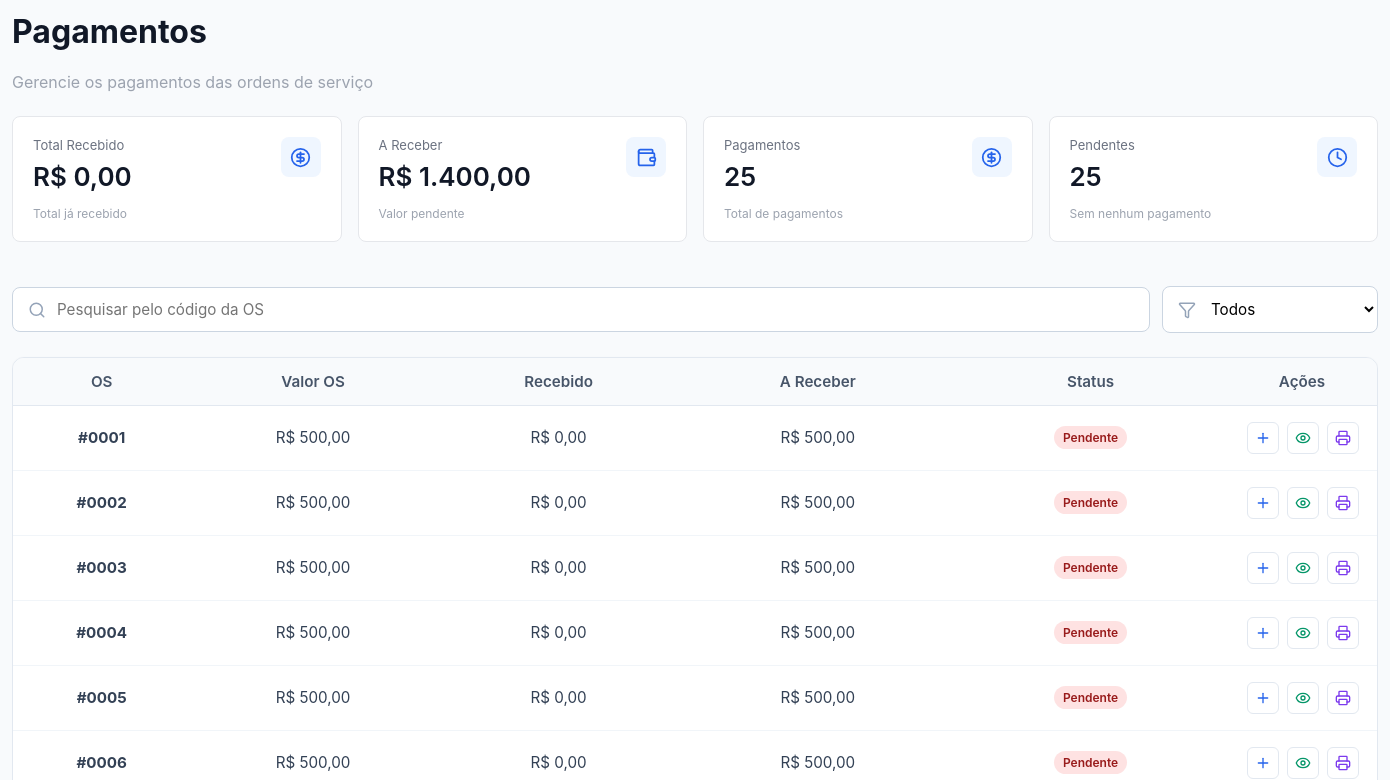
Scenario: Página de Pagamentos › pesquisa e filtro (no servidor) › acha o pagamento que não estava na página carregada
The width and height of the screenshot is (1390, 780).
Expected: the text "#0001" is shown, [78,428,125,447]
Expected: the text "#0025" is not shown
In the field with placeholder "Pesquisar pelo código da OS": (581, 310) [12,287,1150,332], type "25"
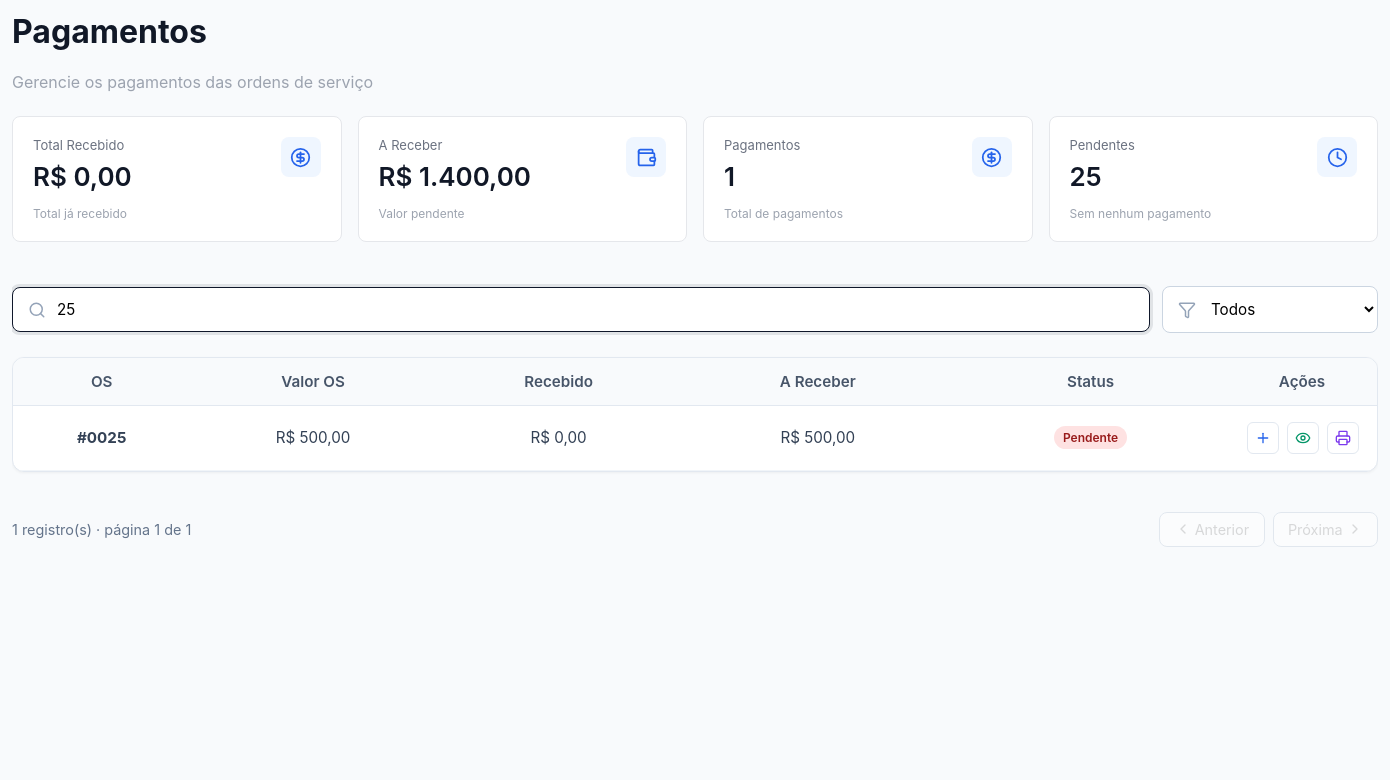
Expected: the text "#0025" is shown, [77,428,126,447]
Expected: the text "#0001" is gone
